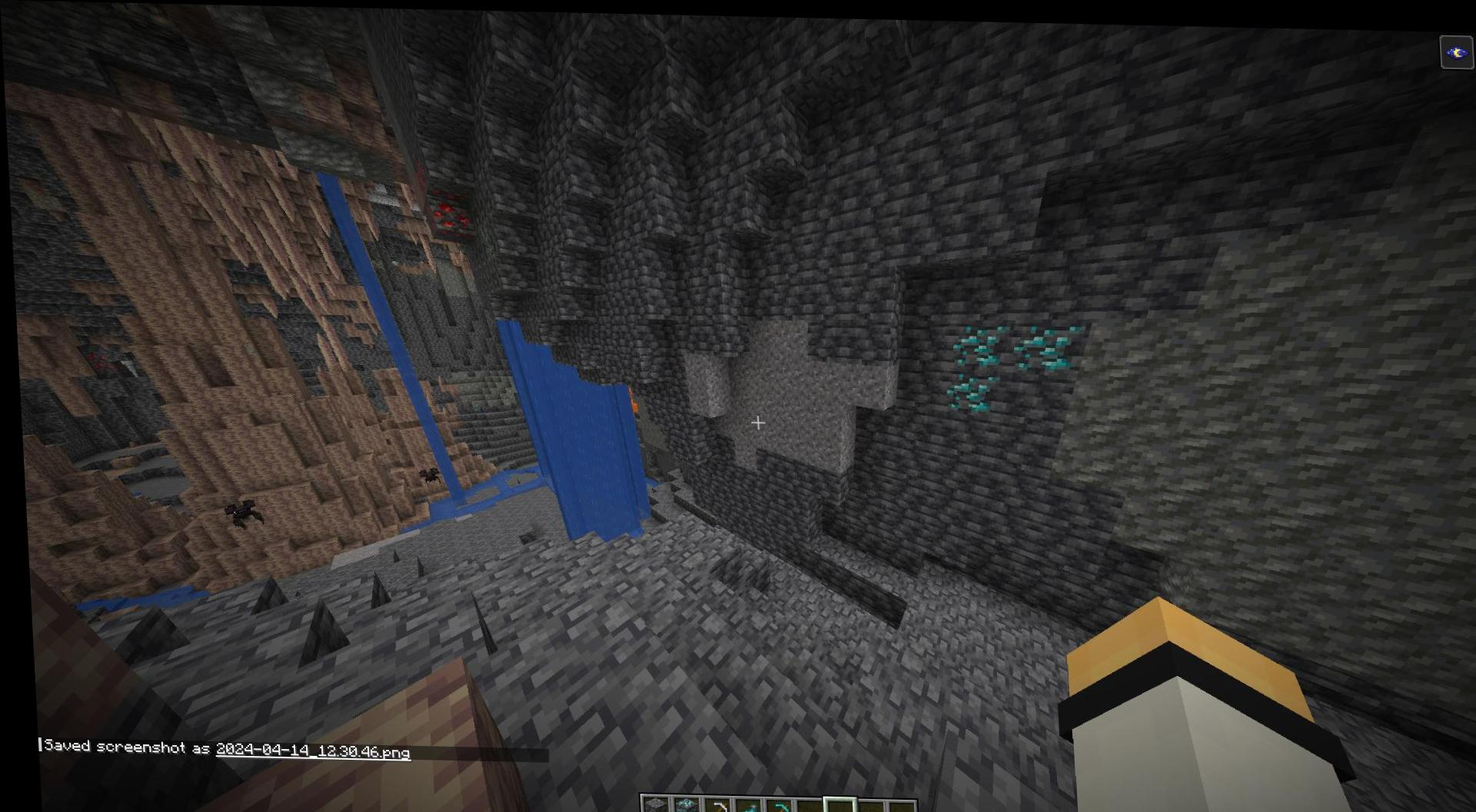diamond ore: (1008, 318, 1079, 371), (949, 317, 1007, 369), (940, 367, 996, 412)
redstone ore: (424, 195, 472, 241), (80, 347, 110, 373)
